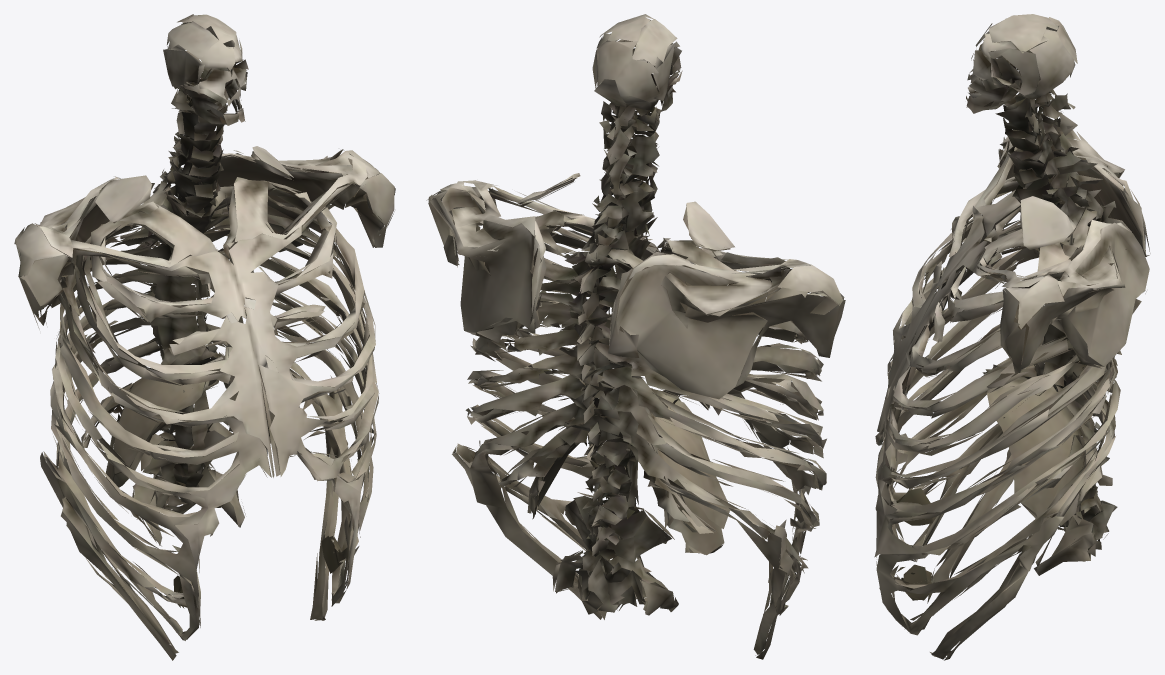
File: dre_small_bone_pile.glb
The picture shows the model from 3 angles, left to right: view 1: azimuth 30°, elevation 25°; view 2: azimuth 150°, elevation 25°; view 3: azimuth 270°, elevation 25°; orthographic projection. The views are drawn at different scales.
Parts seen in each view (by area): view 1: MetricPlacement; view 2: MetricPlacement; view 3: MetricPlacement.
Part boxes in pixels (<box>): MetricPlacement: <box>14,14,395,660</box>; MetricPlacement: <box>426,14,845,659</box>; MetricPlacement: <box>874,14,1150,660</box>.
Bounding box in the file's own units: 0.4982 × 0.75 × 0.3071.
Materials: 1 (1 with a texture image).
